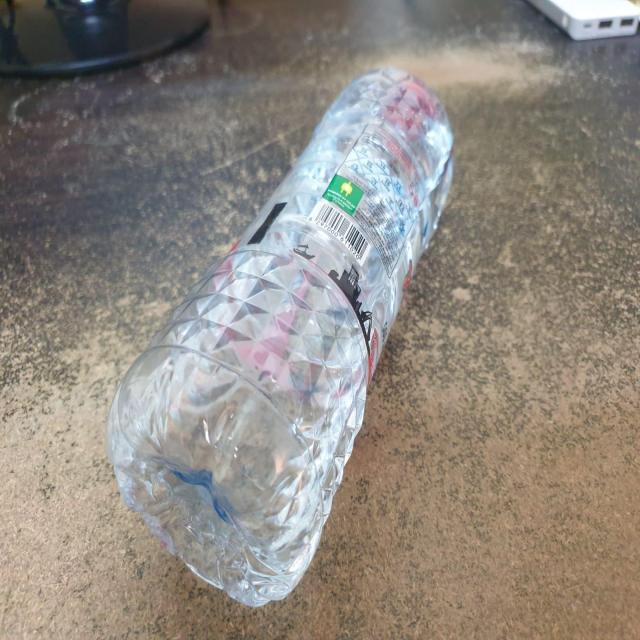bottle: (105, 68, 460, 612)
